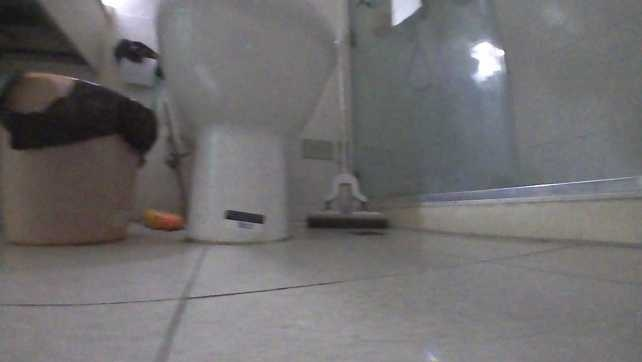toilet_part: (155, 0, 339, 246)
trash_can: (0, 70, 157, 251)
